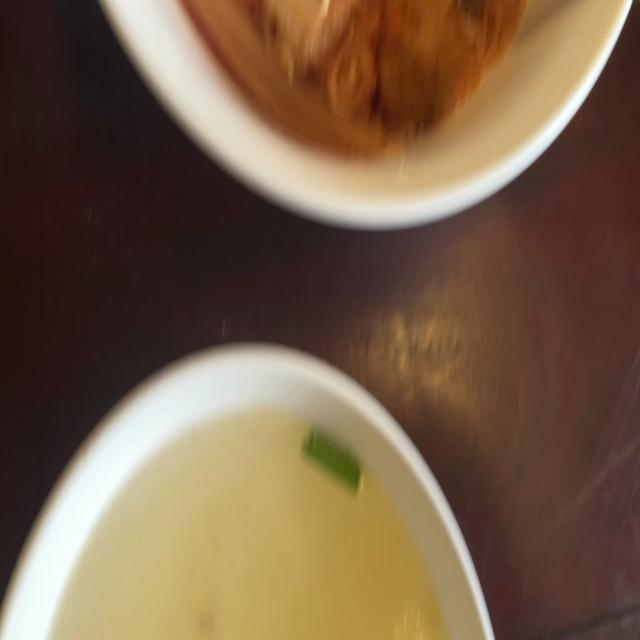noodle: (181, 0, 540, 156)
